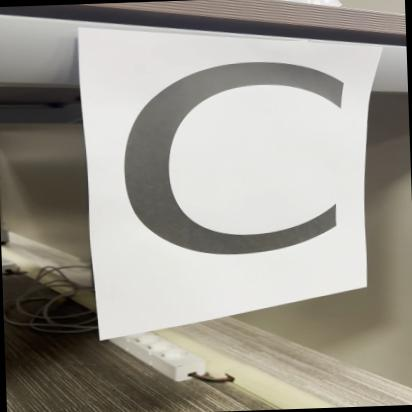seat: (85, 42, 355, 296)
